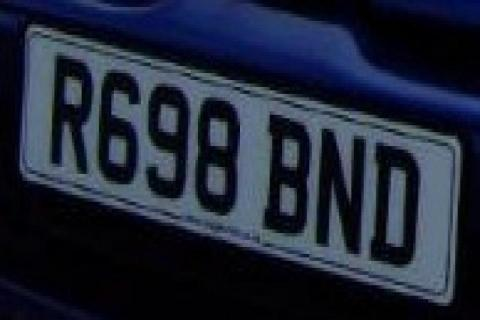LicensePlate: (14, 8, 460, 316)
